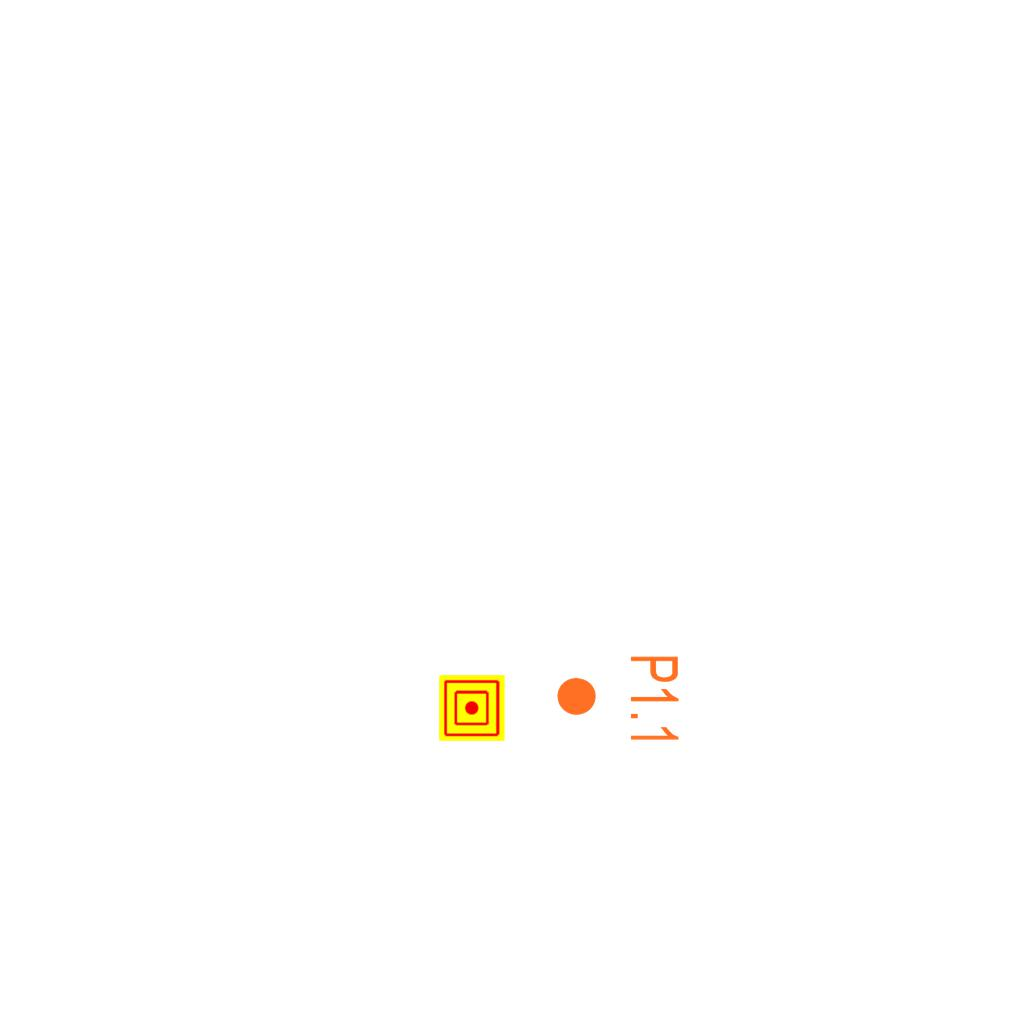Downlight_LED_Einbauleuchten_Flur: (554, 653, 682, 746)
NAM-Nichtautomatischer_Melder: (439, 675, 505, 741)
